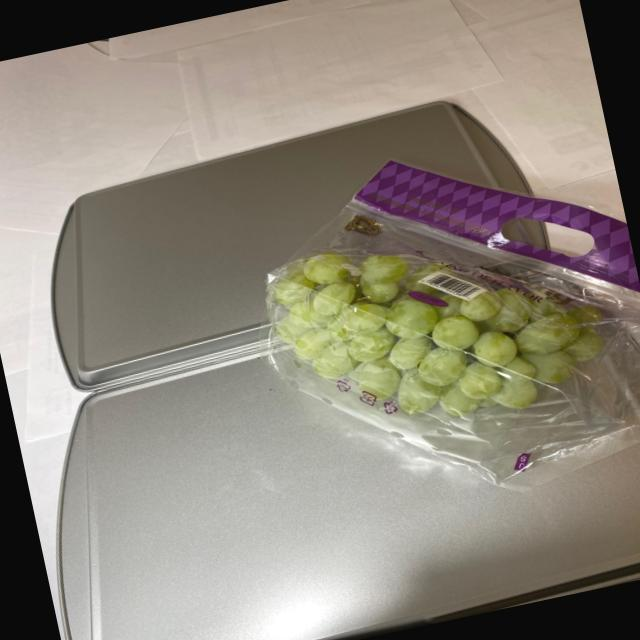grapes: (246, 183, 626, 466)
